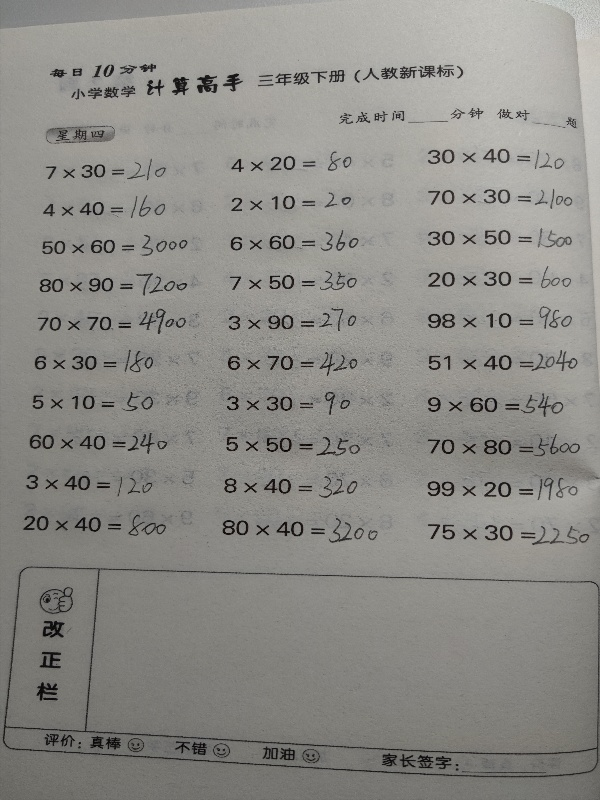equation: (219, 515, 382, 547), (34, 305, 188, 338), (424, 431, 583, 462), (424, 474, 582, 504), (424, 520, 593, 548), (425, 262, 576, 293), (220, 470, 361, 503), (216, 387, 366, 418), (36, 270, 191, 300), (423, 302, 576, 332), (39, 231, 192, 261), (425, 346, 582, 375), (222, 426, 363, 458), (20, 511, 170, 541), (424, 390, 568, 421), (22, 468, 156, 500), (224, 349, 362, 380), (425, 185, 577, 213), (26, 430, 172, 458), (425, 225, 576, 252), (226, 305, 361, 335), (226, 228, 362, 257), (39, 193, 169, 223), (424, 144, 568, 171), (31, 347, 158, 377), (226, 267, 361, 295), (42, 155, 170, 184), (228, 148, 356, 176), (29, 389, 157, 416), (227, 190, 354, 213)
